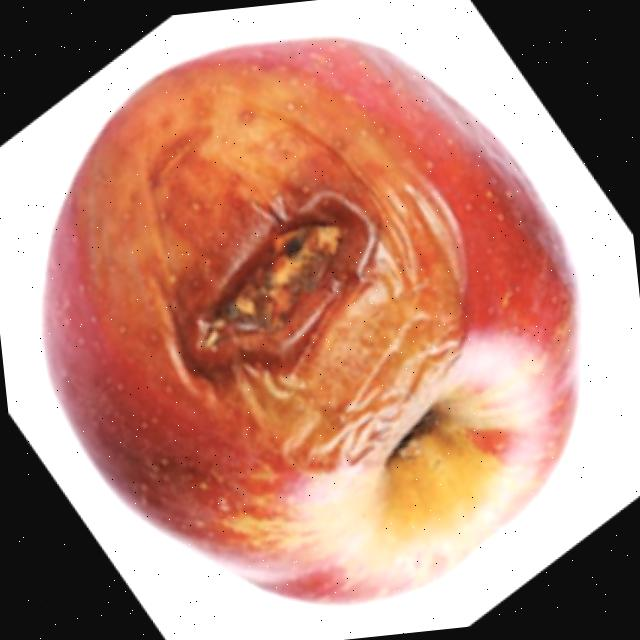Rotten: (13, 2, 620, 638)
